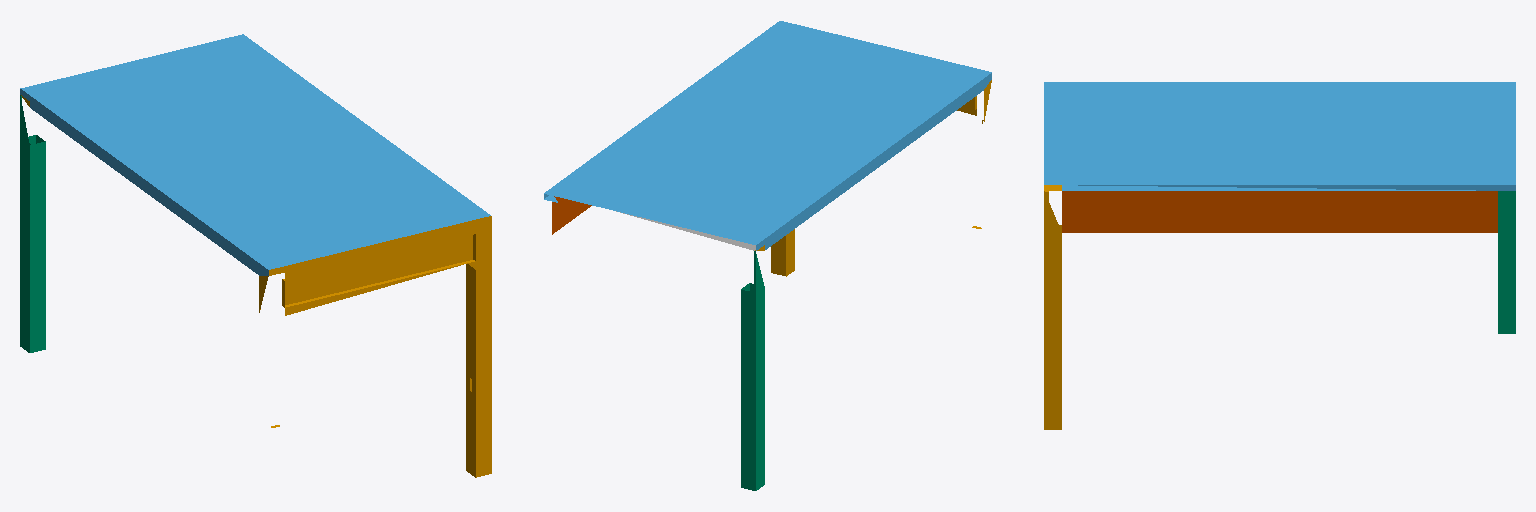
URDF robot description (partnet_2781a072e2645ccdedf1aa83ea962bc0):
<?xml version="1.0" ?>
<robot name="partnet_2781a072e2645ccdedf1aa83ea962bc0">
	<link name="base"/>

	<link name="link_0">
		<visual name="switch-18">
			<origin xyz="0.48746849999999997 0 0.0790005"/>
			<geometry>
				<mesh filename="faucet_objs/new-10.obj"/>
			</geometry>
		</visual>
		<visual name="switch-18">
			<origin xyz="0.48746849999999997 0 0.0790005"/>
			<geometry>
				<mesh filename="faucet_objs/original-7.obj"/>
			</geometry>
		</visual>
		<collision>
			<origin xyz="0.48746849999999997 0 0.0790005"/>
			<geometry>
				<mesh filename="faucet_objs/new-10.obj"/>
			</geometry>
		</collision>
		<collision>
			<origin xyz="0.48746849999999997 0 0.0790005"/>
			<geometry>
				<mesh filename="faucet_objs/original-7.obj"/>
			</geometry>
		</collision>
	</link>
	<joint name="joint_faucet_0" type="revolute">
		<origin xyz="-0.48746849999999997 0 -0.0790005"/>
		<axis xyz="0 1 0"/>
		<child link="link_0"/>
		<parent link="link_nob_0"/>
		<limit lower="0.0" upper="1.5707963267948966"/>
	</joint>

	<link name="link_1">
		<visual name="switch-19">
			<origin xyz="-0.4956825 0 0.07900049999999996"/>
			<geometry>
				<mesh filename="faucet_objs/new-6.obj"/>
			</geometry>
		</visual>
		<visual name="switch-19">
			<origin xyz="-0.4956825 0 0.07900049999999996"/>
			<geometry>
				<mesh filename="faucet_objs/original-5.obj"/>
			</geometry>
		</visual>
		<collision>
			<origin xyz="-0.4956825 0 0.07900049999999996"/>
			<geometry>
				<mesh filename="faucet_objs/new-6.obj"/>
			</geometry>
		</collision>
		<collision>
			<origin xyz="-0.4956825 0 0.07900049999999996"/>
			<geometry>
				<mesh filename="faucet_objs/original-5.obj"/>
			</geometry>
		</collision>
	</link>
	<joint name="joint_faucet_1" type="revolute">
		<origin xyz="0.4956825 0 -0.07900049999999996"/>
		<axis xyz="0 -1 0"/>
		<child link="link_1"/>
		<parent link="link_nob_1"/>
		<limit lower="-0.0" upper="1.5707963267948966"/>
	</joint>

	<link name="link_2">
		<visual name="tube-24">
			<origin xyz="-0.004107500000000028 0 0.0790015"/>
			<geometry>
				<mesh filename="faucet_objs/original-3.obj"/>
			</geometry>
		</visual>
			<visual name="head-25">
				<origin xyz="-0.004107500000000028 0 0.0790015"/>
				<geometry>
					<mesh filename="faucet_objs/new-0.obj"/>
				</geometry>
			</visual>
		<collision>
			<origin xyz="-0.004107500000000028 0 0.0790015"/>
			<geometry>
				<mesh filename="faucet_objs/original-3.obj"/>
			</geometry>
		</collision>
		<collision>
			<origin xyz="-0.004107500000000028 0 0.0790015"/>
			<geometry>
				<mesh filename="faucet_objs/new-0.obj"/>
			</geometry>
		</collision>
	</link>
	<joint name="joint_faucet_2" type="fixed">
		<origin xyz="0.004107500000000028 0 -0.0790015"/>
		<axis xyz="0 1 0"/>
		<child link="link_2"/>
		<parent link="link_nob_2"/>
	</joint>

	<link name="tube_head">
		<visual name="mouth-26">
			<origin xyz="-0.004107500000000028 0 0.0790015"/>
			<geometry>
				<mesh filename="faucet_objs/new-1.obj"/>
			</geometry>
		</visual>
		<collision>
			<origin xyz="-0.004107500000000028 0 0.0790015"/>
			<geometry>
				<mesh filename="faucet_objs/new-1.obj"/>
			</geometry>
		</collision>
	</link>
	<joint name="joint_head" type="fixed">
		<!-- <origin xyz="0 0 0"/> -->
		<origin xyz="0.004107500000000028 0 -0.0790015"/>
		<axis xyz="0 1 0"/>
		<child link="tube_head"/>
		<parent link="link_3"/>
	</joint>

	<joint name="joint_nob_0" type="fixed">
		<origin xyz="0 0 0"/>
		<axis xyz="0 1 0"/>
		<child link="link_nob_0"/>
		<parent link="link_3"/>
	</joint>
	<link name="link_nob_0">
		<visual name="vertical_support-30">
			<origin xyz="0 0 0"/>
			<geometry>
				<mesh filename="faucet_objs/new-11.obj"/>
			</geometry>
		</visual>
		<collision>
			<origin xyz="0 0 0"/>
			<geometry>
				<mesh filename="faucet_objs/new-11.obj"/>
			</geometry>
		</collision>
	</link>

	<joint name="joint_nob_1" type="fixed">
		<origin xyz="0 0 0"/>
		<axis xyz="0 1 0"/>
		<child link="link_nob_1"/>
		<parent link="link_3"/>
	</joint>
	<link name="link_nob_1">
		<visual name="vertical_support-32">
			<origin xyz="0 0 0"/>
			<geometry>
				<mesh filename="faucet_objs/new-7.obj"/>
			</geometry>
		</visual>
		<collision>
			<origin xyz="0 0 0"/>
			<geometry>
				<mesh filename="faucet_objs/new-7.obj"/>
			</geometry>
		</collision>
	</link>

	<joint name="joint_nob_2" type="fixed">
		<origin xyz="0 0 0"/>
		<axis xyz="0 1 0"/>
		<child link="link_nob_2"/>
		<parent link="link_3"/>
	</joint>
	<link name="link_nob_2">
		<visual name="vertical_support-28">
			<origin xyz="0 0 0"/>
			<geometry>
				<mesh filename="faucet_objs/new-14.obj"/>
			</geometry>
		</visual>
		<!-- <collision>
			<origin xyz="0 0 0"/>
			<geometry>
				<mesh filename="faucet_objs/new-14.obj"/>
			</geometry>
		</collision> -->
	</link>

	<link name="link_3">
		<visual name="surface_base-31">
			<origin xyz="0 0 0"/>
			<geometry>
				<mesh filename="faucet_objs/new-8.obj"/>
			</geometry>
		</visual>
		<visual name="surface_base-29">
			<origin xyz="0 0 0"/>
			<geometry>
				<mesh filename="faucet_objs/new-12.obj"/>
			</geometry>
		</visual>
		<visual name="surface_base-27">
			<origin xyz="0 0 0"/>
			<geometry>
				<mesh filename="faucet_objs/new-4.obj"/>
			</geometry>
		</visual>
		<collision>
			<origin xyz="0 0 0"/>
			<geometry>
				<mesh filename="faucet_objs/new-8.obj"/>
			</geometry>
		</collision>
		<collision>
			<origin xyz="0 0 0"/>
			<geometry>
				<mesh filename="faucet_objs/new-12.obj"/>
			</geometry>
		</collision>
		<!-- <collision>
			<origin xyz="0 0 0"/>
			<geometry>
				<mesh filename="faucet_objs/new-4.obj"/>
			</geometry>
		</collision> -->
	</link>
	<joint name="joint_faucet_3" type="fixed">
		<origin rpy="1.570796326794897 0 -1.570796326794897" xyz="0 0 0"/>
		<child link="link_3"/>
		<parent link="base"/>
	</joint>
</robot>

--- Facts derived from the render (not from the file) ---
Views: 3 orthographic renders of the robot side by side, from view 1: azimuth 30°, elevation 25°; view 2: azimuth 150°, elevation 25°; view 3: azimuth 270°, elevation 25°.
Model partnet_2781a072e2645ccdedf1aa83ea962bc0 with 9 links and 8 joints (2 revolute, 6 fixed), rooted at base, posed every joint at zero.
Links seen in each view (by area): view 1: link_0, link_3, link_1; view 2: link_0, link_1, link_3, link_nob_0; view 3: link_0, link_nob_0, link_3, link_1.
Link boxes in pixels (x1,y1,x2,y2): link_0: (20, 34, 490, 275); link_3: (21, 95, 491, 477); link_1: (20, 95, 45, 352); link_0: (544, 21, 991, 250); link_1: (741, 251, 764, 490); link_3: (755, 80, 991, 276); link_nob_0: (552, 196, 591, 234); link_0: (1044, 82, 1515, 190); link_nob_0: (1062, 191, 1497, 232); link_3: (1044, 185, 1061, 429); link_1: (1498, 191, 1515, 333).
Bounding box of the posed robot: 0.7425 × 1.43 × 0.8221 m (x, y, z).
Meshes: 13 distinct files referenced, 7 mesh visuals loaded (7 OBJ); not drawn: 6 (reference not matched to a file when rendering).